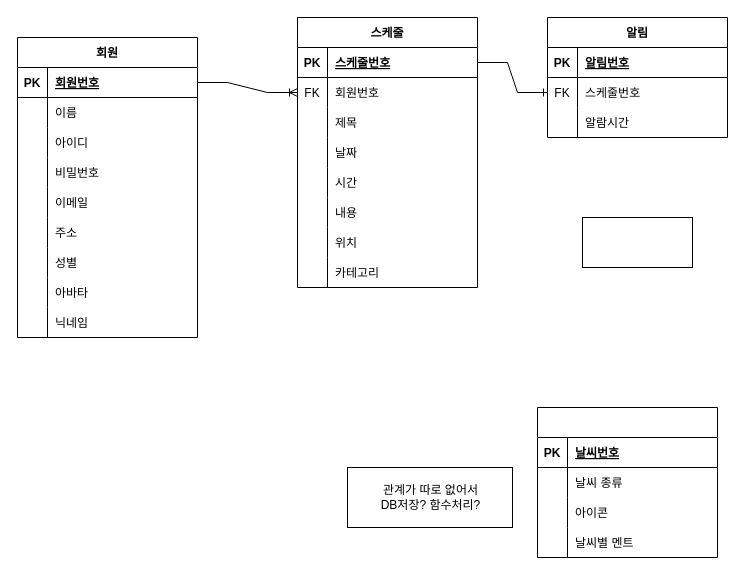
Image size: 745x575. Some labels were removed from this diagram. The box of each missing label's shape, as (x1, y1, x2, y2) in pixels:
날씨: (536, 406, 718, 558)
스케줄/알림 반복은 함수처리: (582, 216, 692, 268)
